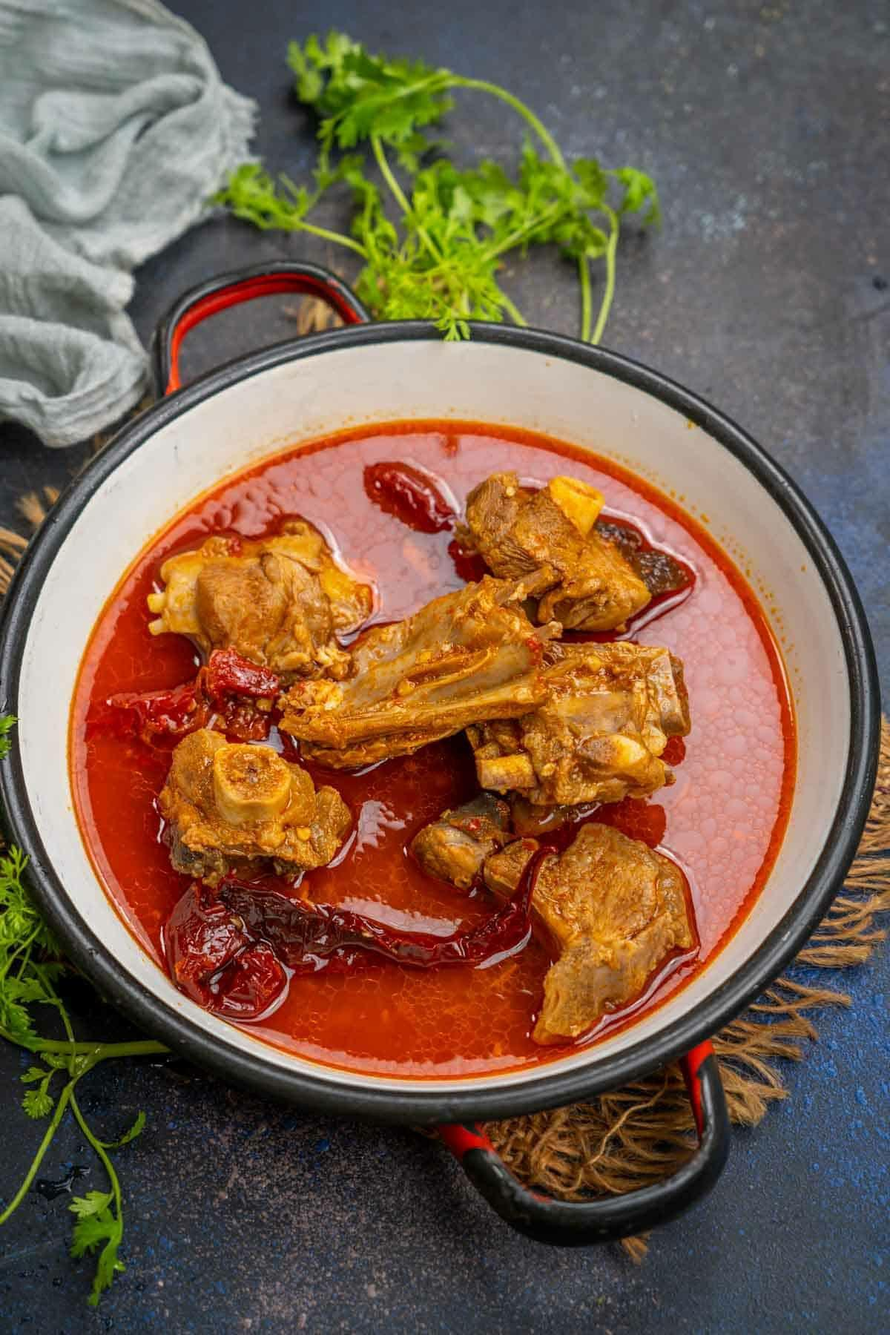MuttonCurry: (70, 420, 792, 1072)
